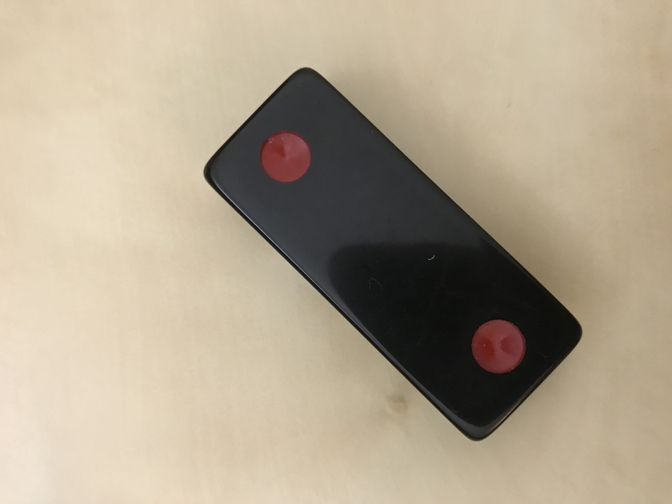earth: (205, 66, 584, 442)
